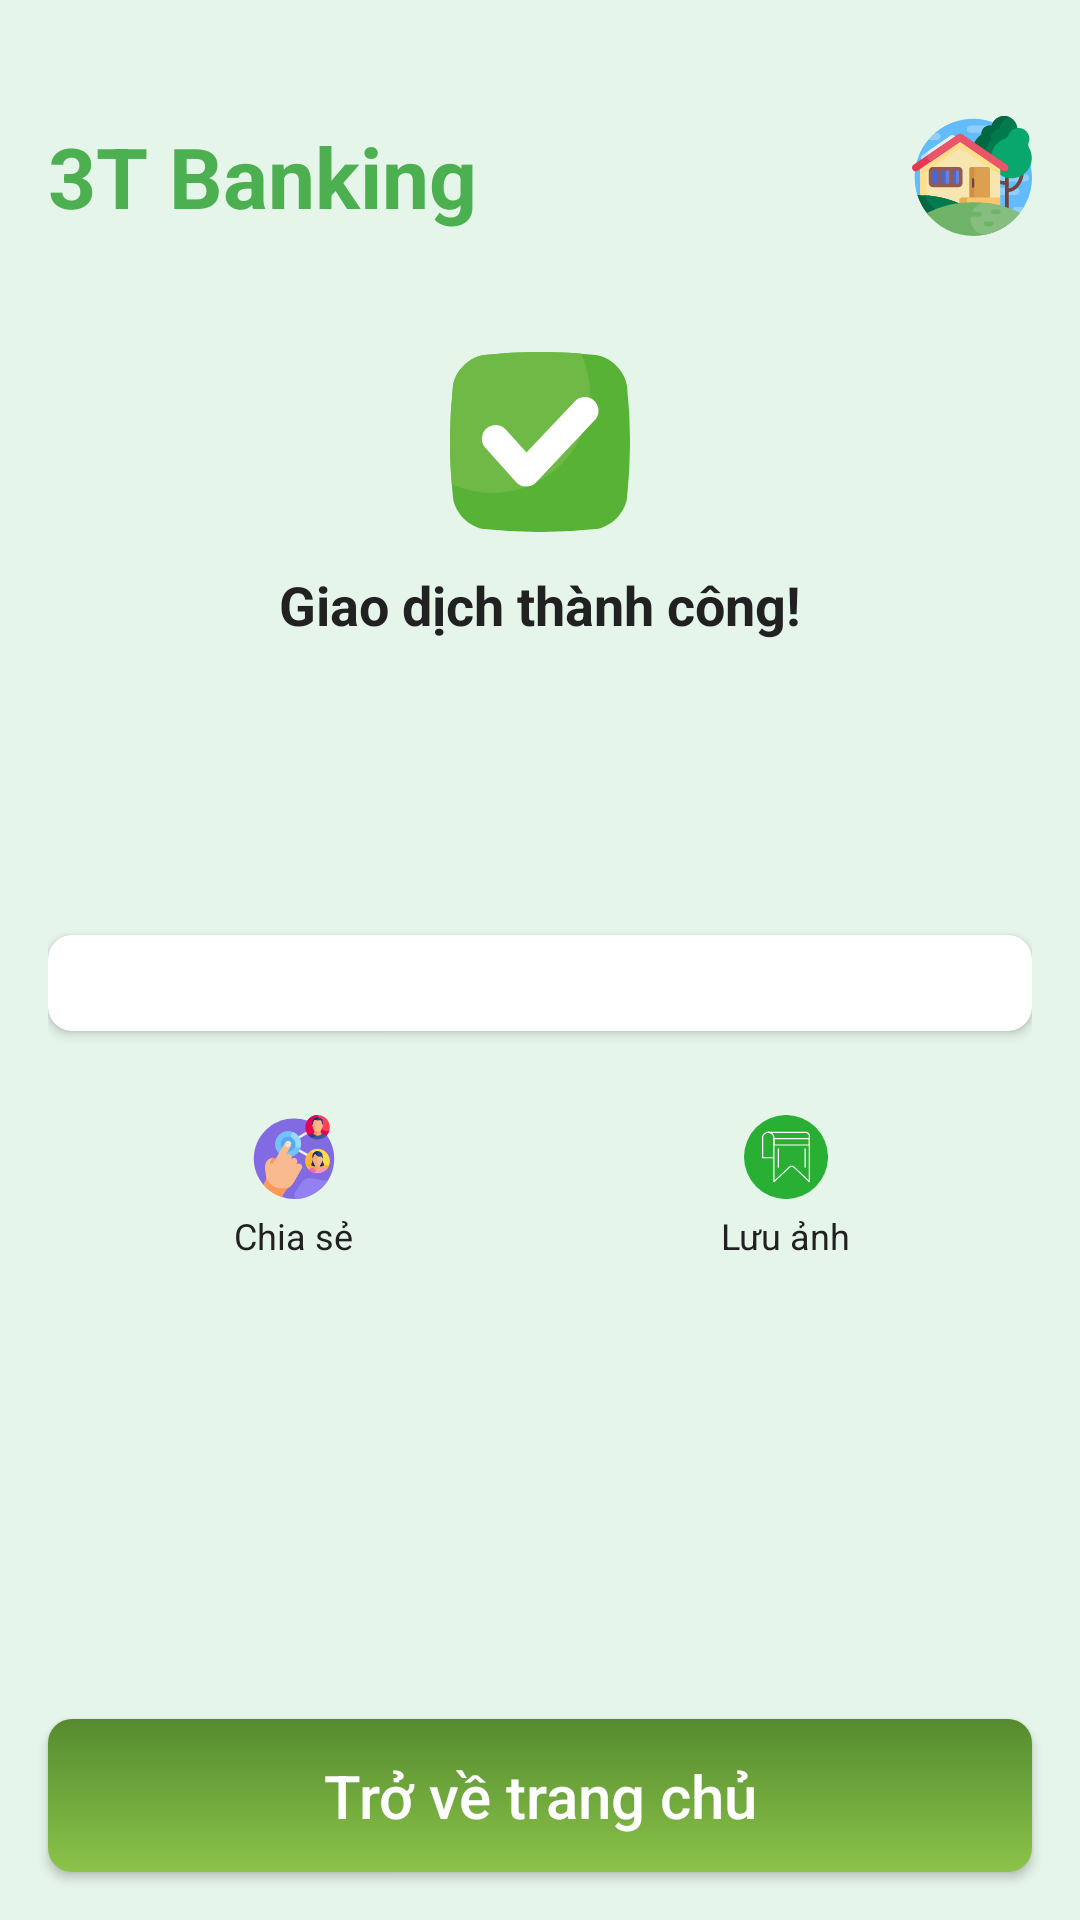

Icon click points for this 1080px×1920px phone screenshot, format [x,y]:
Home Icon: [972,176]
Success Checkmark: [540,442]
